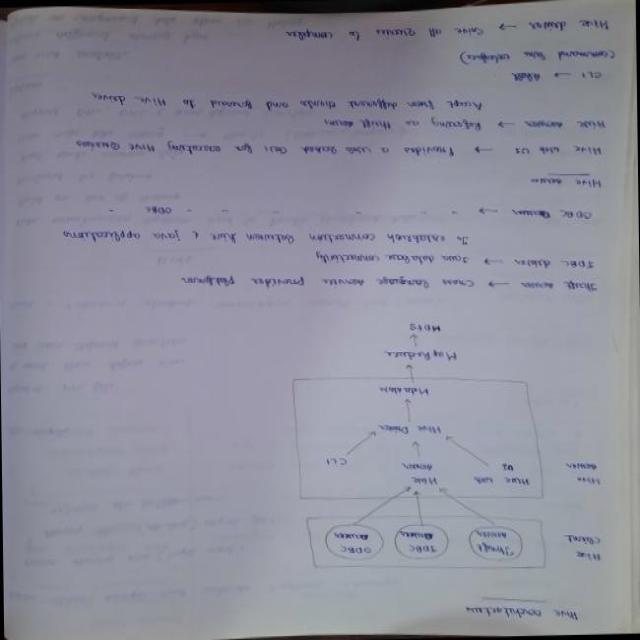Figure Detection - v3 Dataset Version2: (257, 299, 622, 585)
